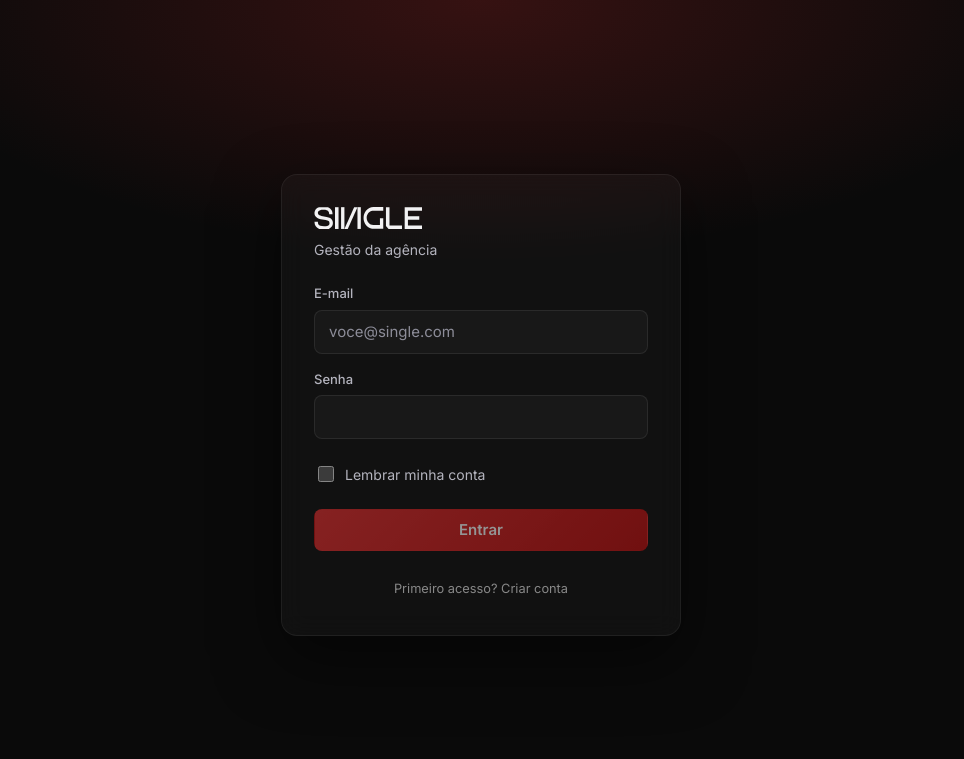
Scenario: Criar conta › mostra a recusa do servidor e não entra
Click the button "Primeiro acesso? Criar conta": (481,589) [314,575,648,603]
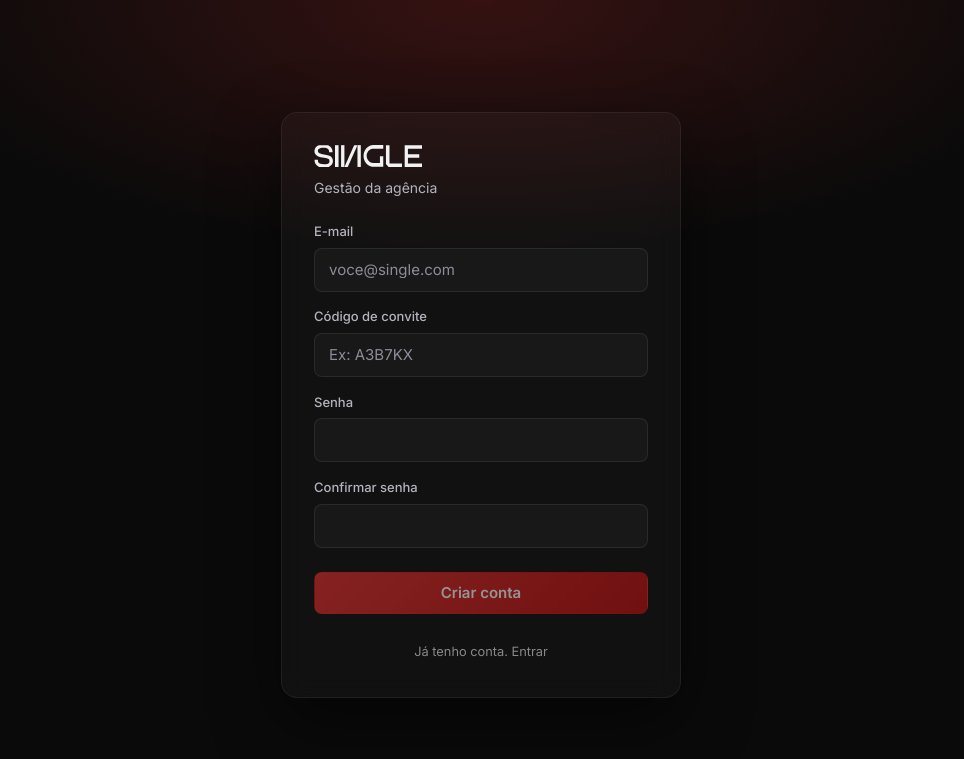
In the field labelled "E-mail": (481,269) [314,247,648,291], type " Ana@Single.com "
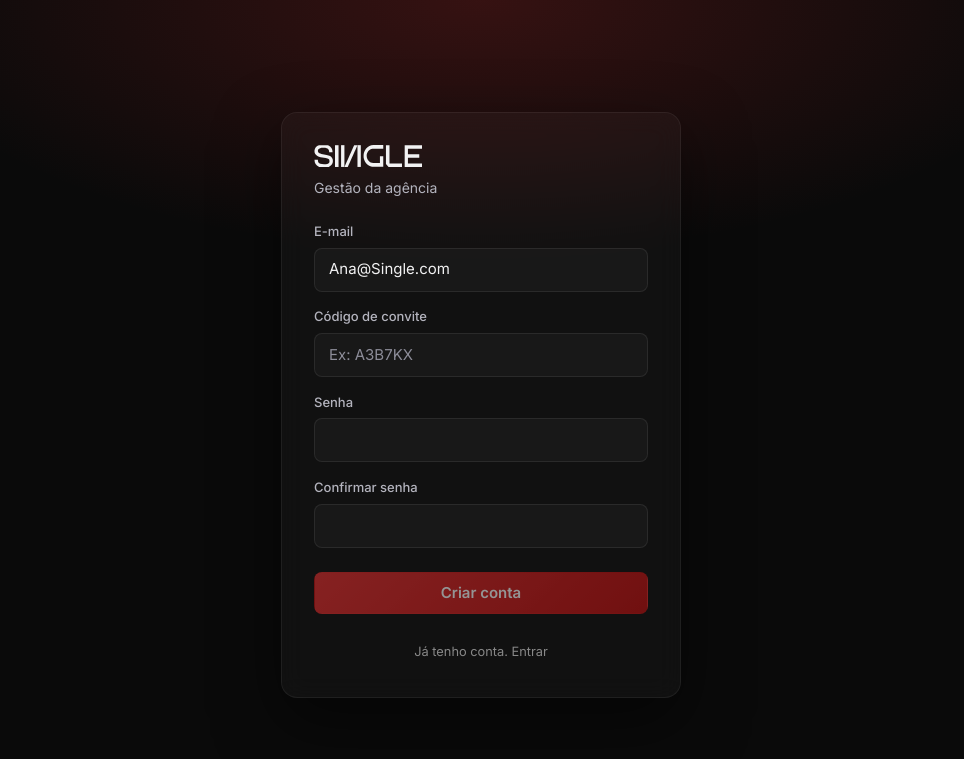
In the field labelled "Código de convite": (481,355) [314,333,648,377], type "abc234"
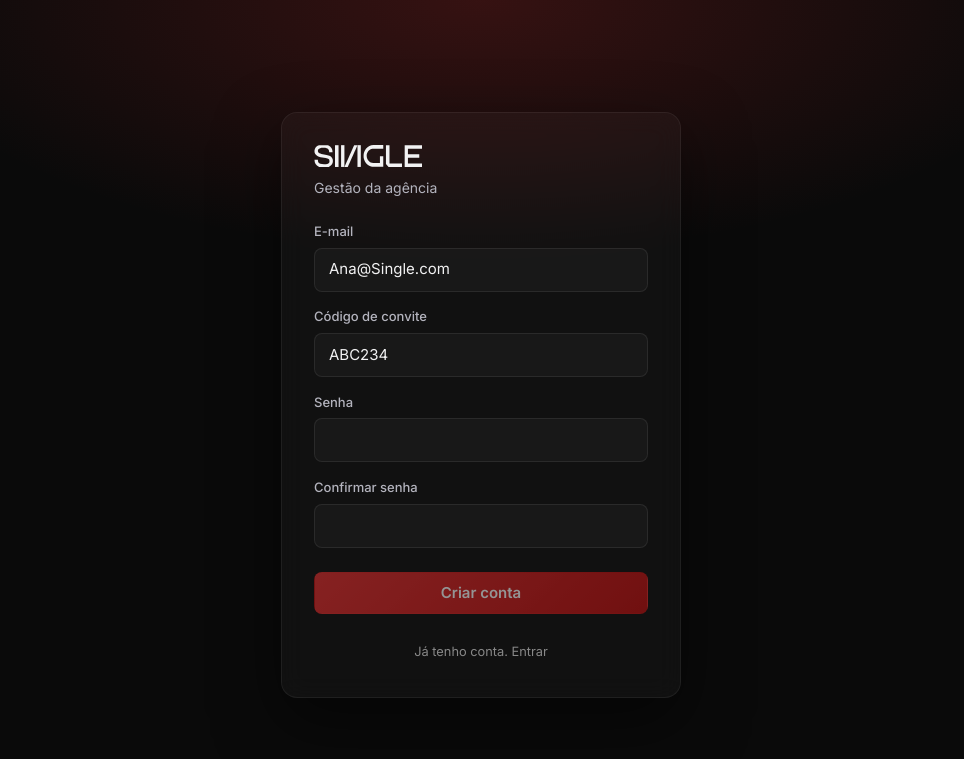
In the password field labelled "Senha": (481,440) [314,418,648,462], type "segredo1"
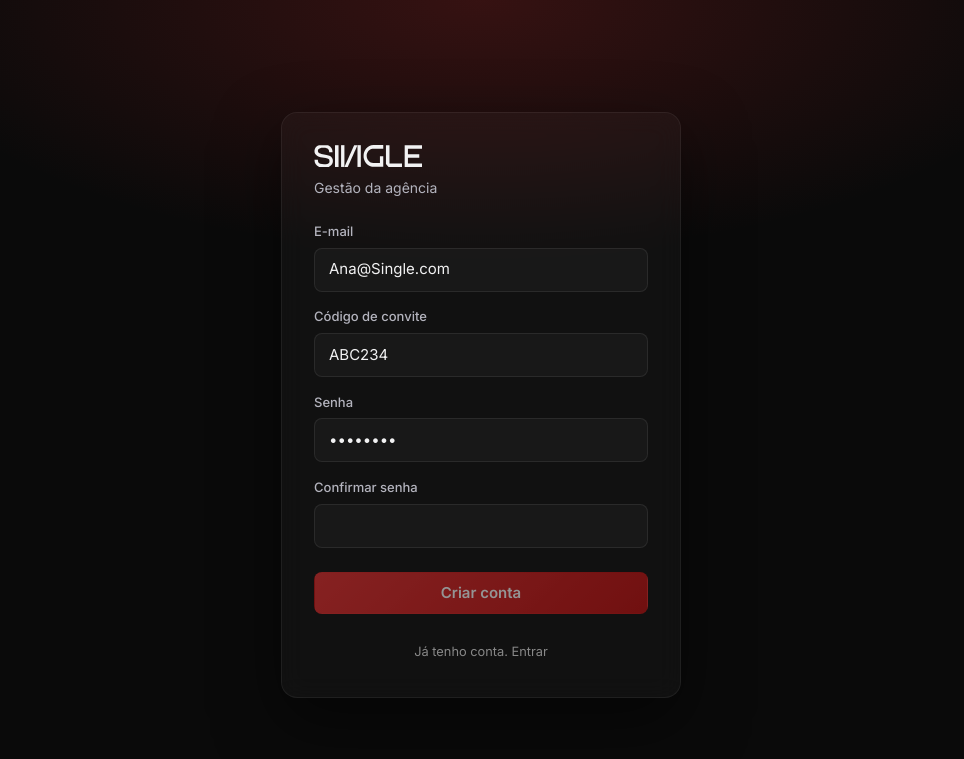
In the password field labelled "Confirmar senha": (481,526) [314,504,648,548], type "segredo1"
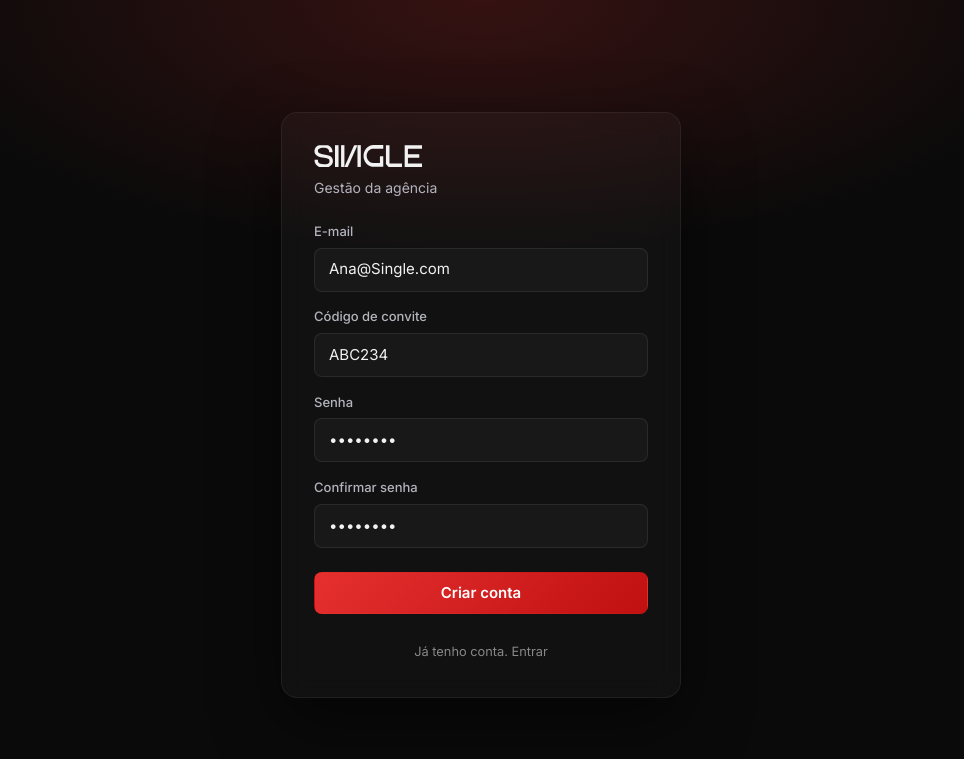
Click the button "Criar conta": (481,593) [314,572,648,614]
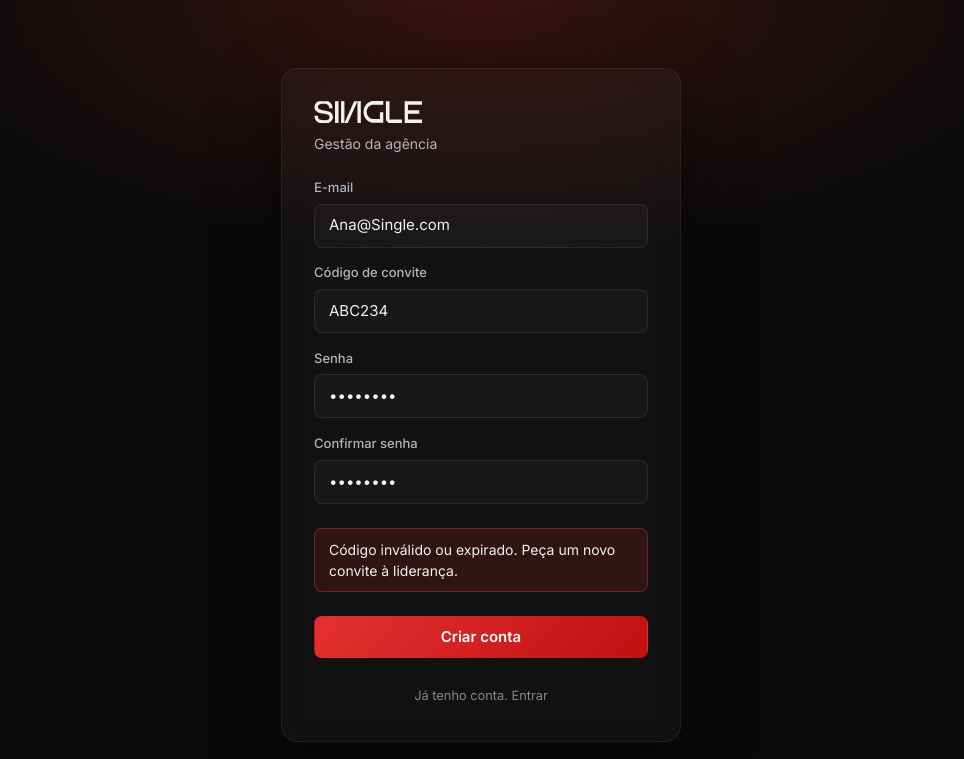
Expected: the message shows "Código inválido ou expirado", [329,541,615,579]
